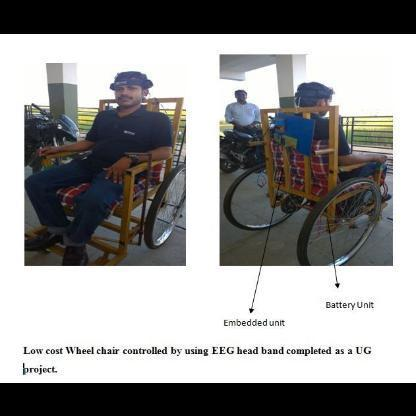person: (25, 70, 173, 265), (224, 89, 261, 136)
